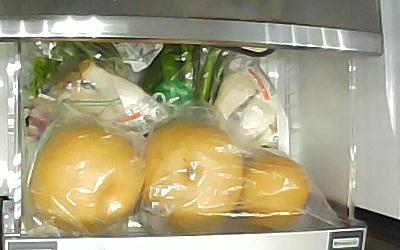pear_vinyl: (29, 122, 142, 234), (144, 120, 242, 232), (241, 150, 310, 232)
